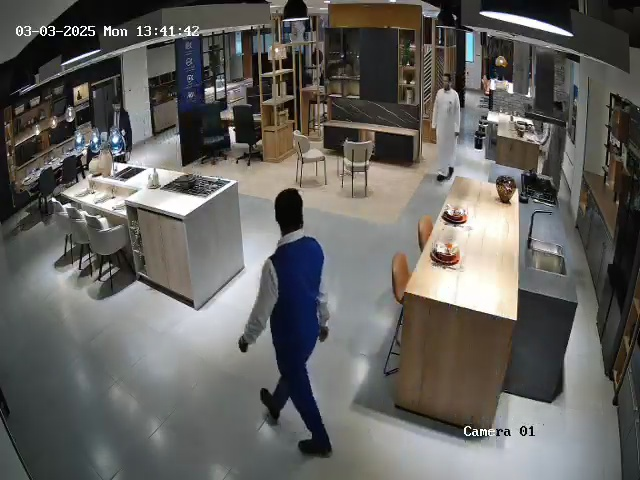employee: (238, 188, 333, 457), (103, 92, 136, 167)
male: (431, 73, 461, 182), (545, 103, 568, 194)
